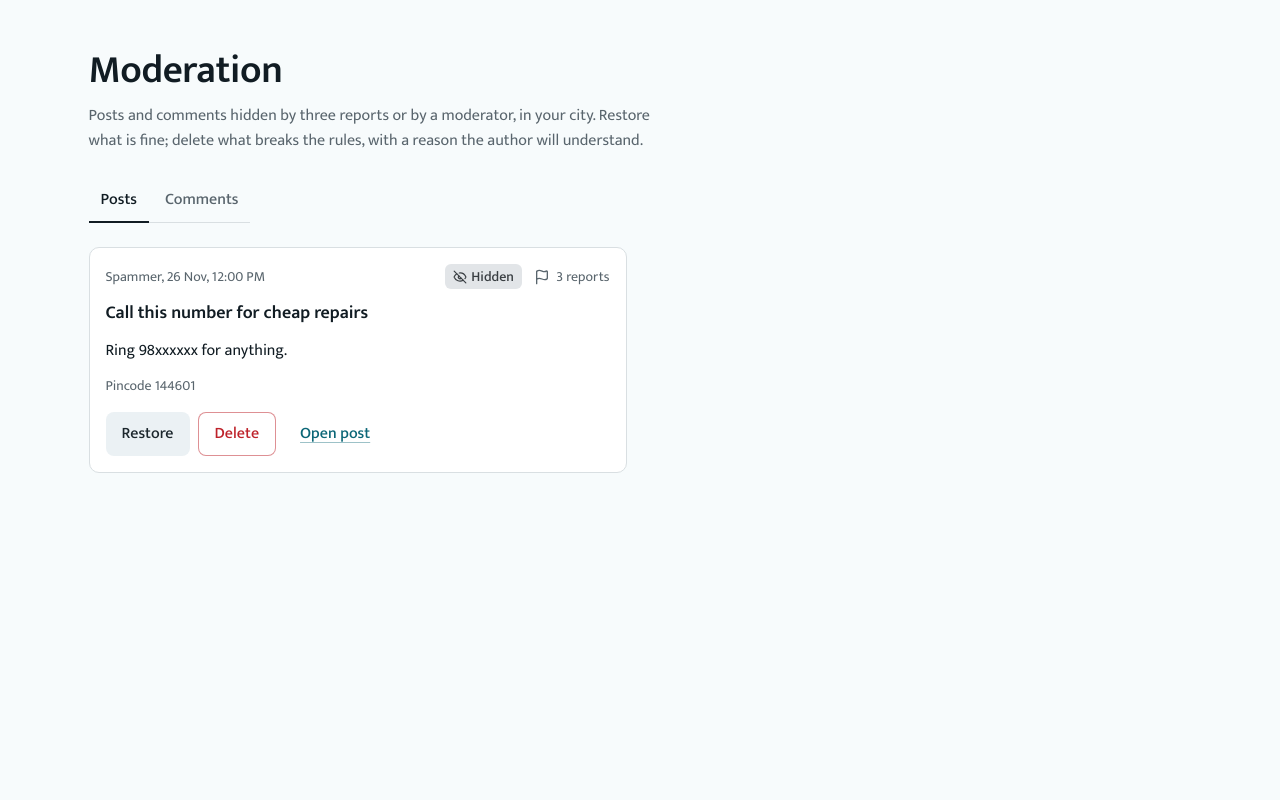
Scenario: Moderation queue › needs a reason before deleting
Later steps or results of the test are not shown.
Step 1. Click the button "Delete" → (237, 434), box [198,412,276,456]
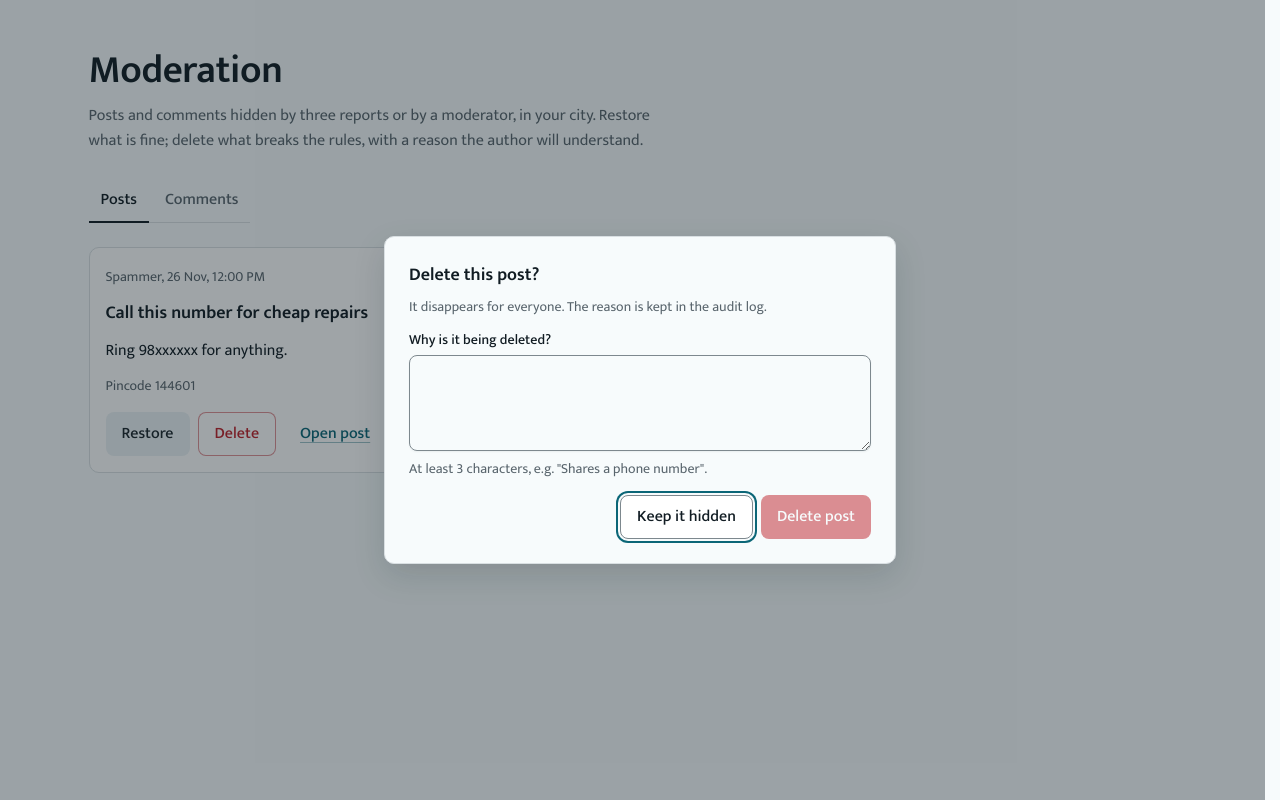
Expected: the button "Delete post" is disabled, [761,495,871,539]
